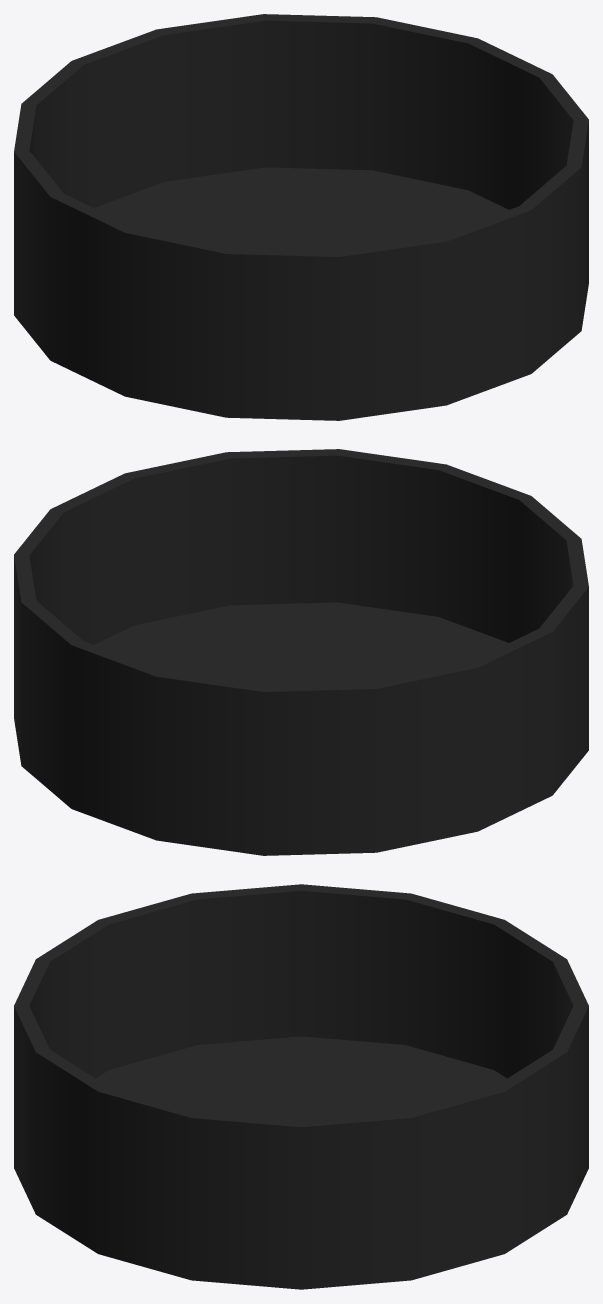
File: CakeBakingTray_01.fbx
3 renders of one model, top to bottom at view 1: azimuth 30°, elevation 25°; view 2: azimuth 150°, elevation 25°; view 3: azimuth 270°, elevation 25°, orthographic.
Parts seen in each view (by area): view 1: CakeBakingTray_01; view 2: CakeBakingTray_01; view 3: CakeBakingTray_01.
Boxes of the visible parts, box(x1,y1,x2,y2) form: CakeBakingTray_01: box(14, 14, 588, 420); CakeBakingTray_01: box(14, 449, 588, 855); CakeBakingTray_01: box(14, 884, 588, 1289).
Bounding box in the file's own units: 0.2189 × 0.0682 × 0.2189.
